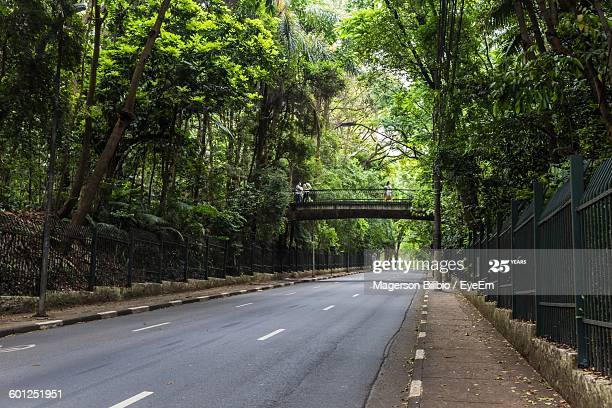bridge: (285, 186, 433, 221)
